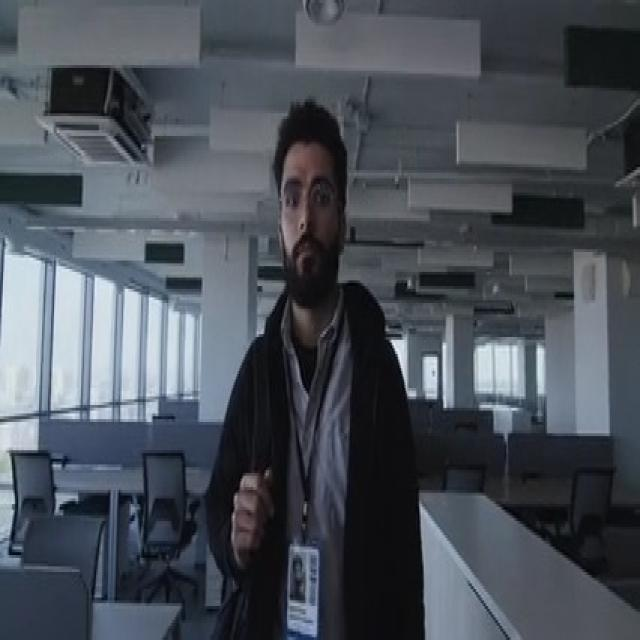Jacket_Wearer: (216, 260, 425, 640)
Person: (212, 82, 431, 640)
